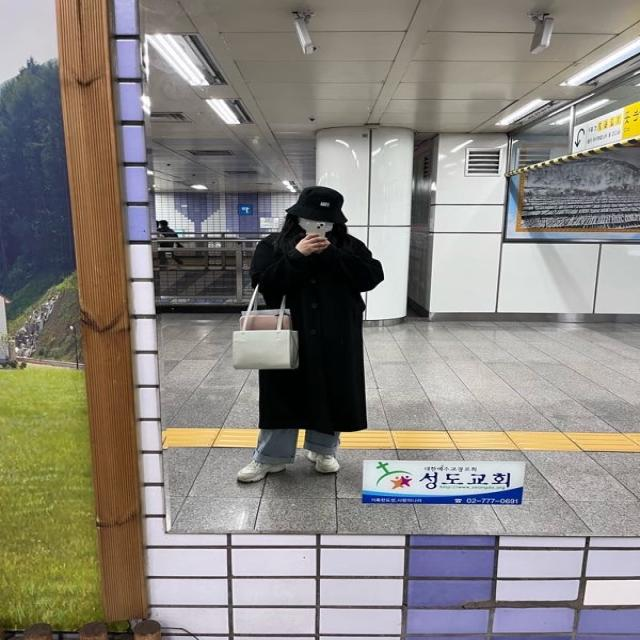coat: (255, 229, 385, 433)
denimpants: (256, 426, 340, 467)
